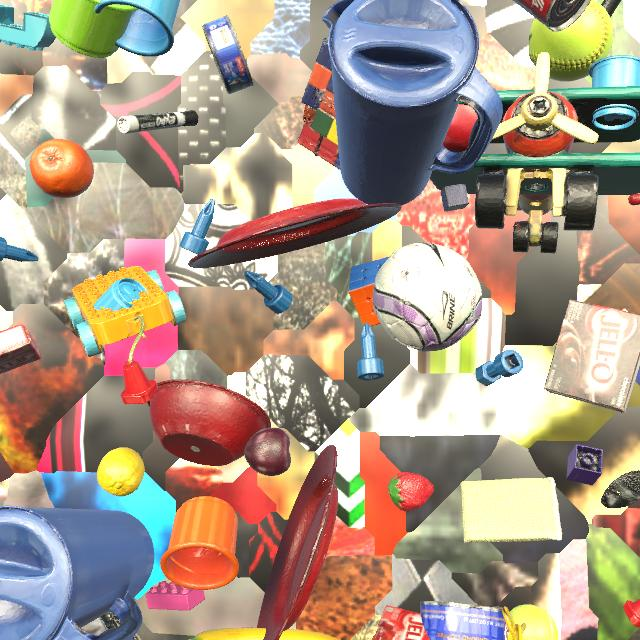ycb_002_master_chef_can: (420, 601, 505, 640)
ycb_005_tomato_soup_can: (513, 0, 591, 32), (494, 607, 509, 640)
ycb_007_tuna_fish_can: (202, 15, 254, 94)
ycb_008_pudding_box: (544, 299, 640, 413)
ycb_009_gelatin_box: (0, 324, 41, 374), (372, 605, 430, 640)
ycb_011_banana: (189, 628, 341, 640)
ycb_012_strawberry: (388, 472, 434, 511)
ycb_013_apple: (443, 104, 478, 152)
ycb_014_lemon: (97, 447, 145, 496)
ycb_017_orange: (30, 139, 94, 198)
ycb_018_plum: (244, 427, 291, 476)
